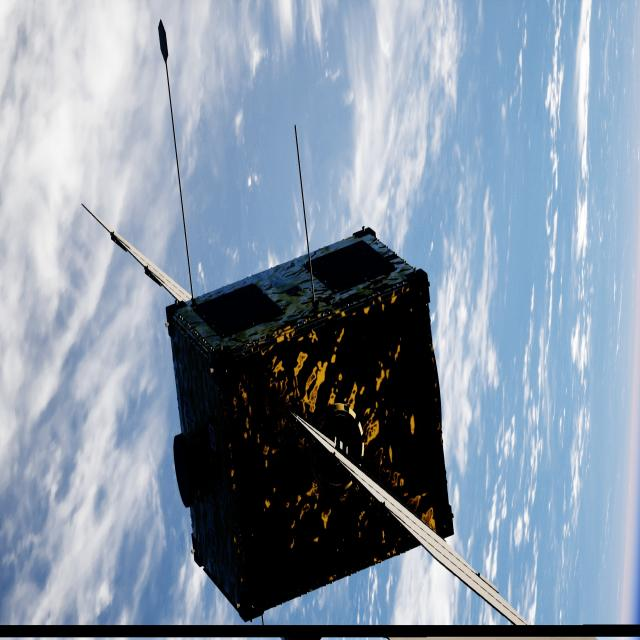satellite: (111, 229, 523, 627)
